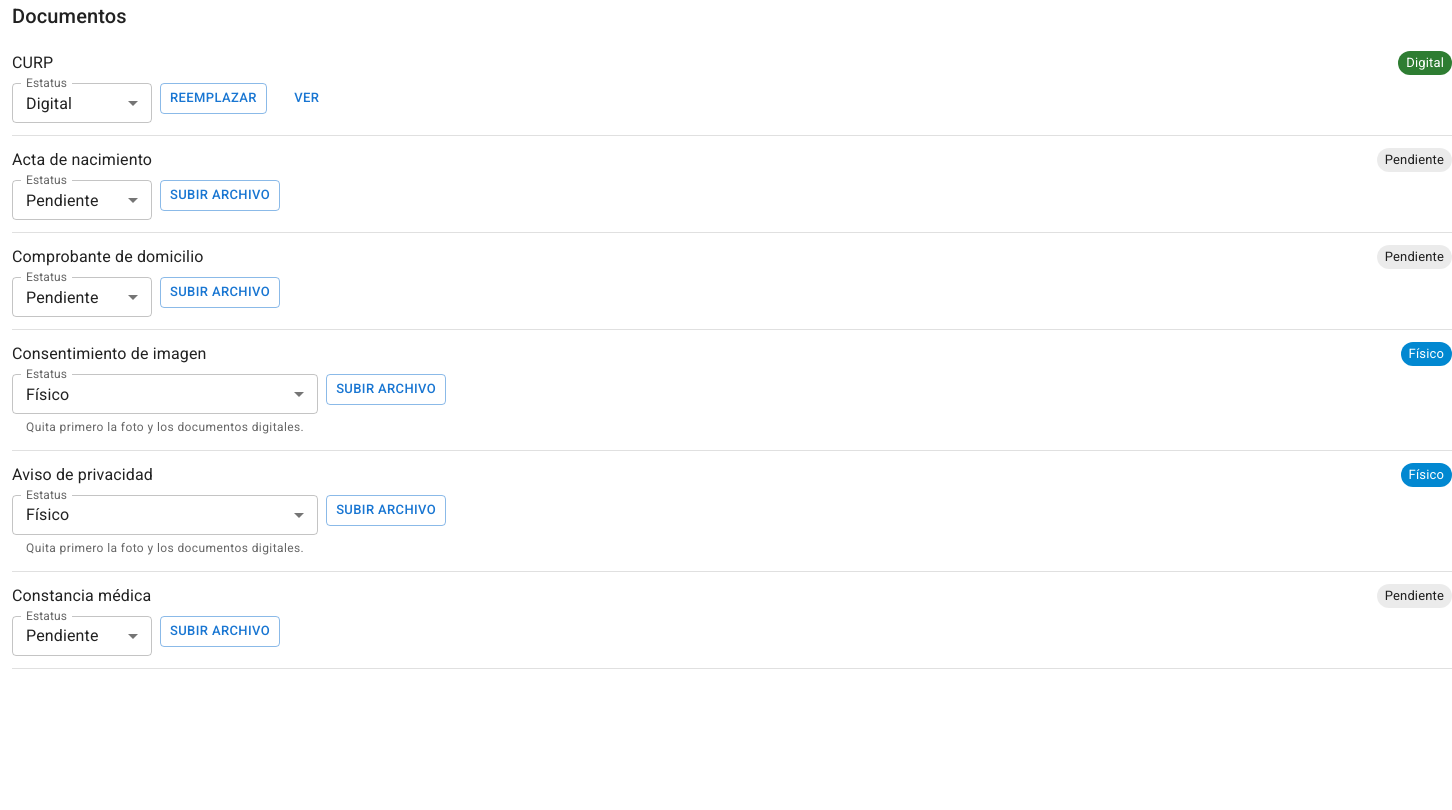
it: Ver closes the tab and shows an error when signing fails
Click the button "Ver".
click(307, 98)  # box x1=275 y1=83 x2=339 y2=114
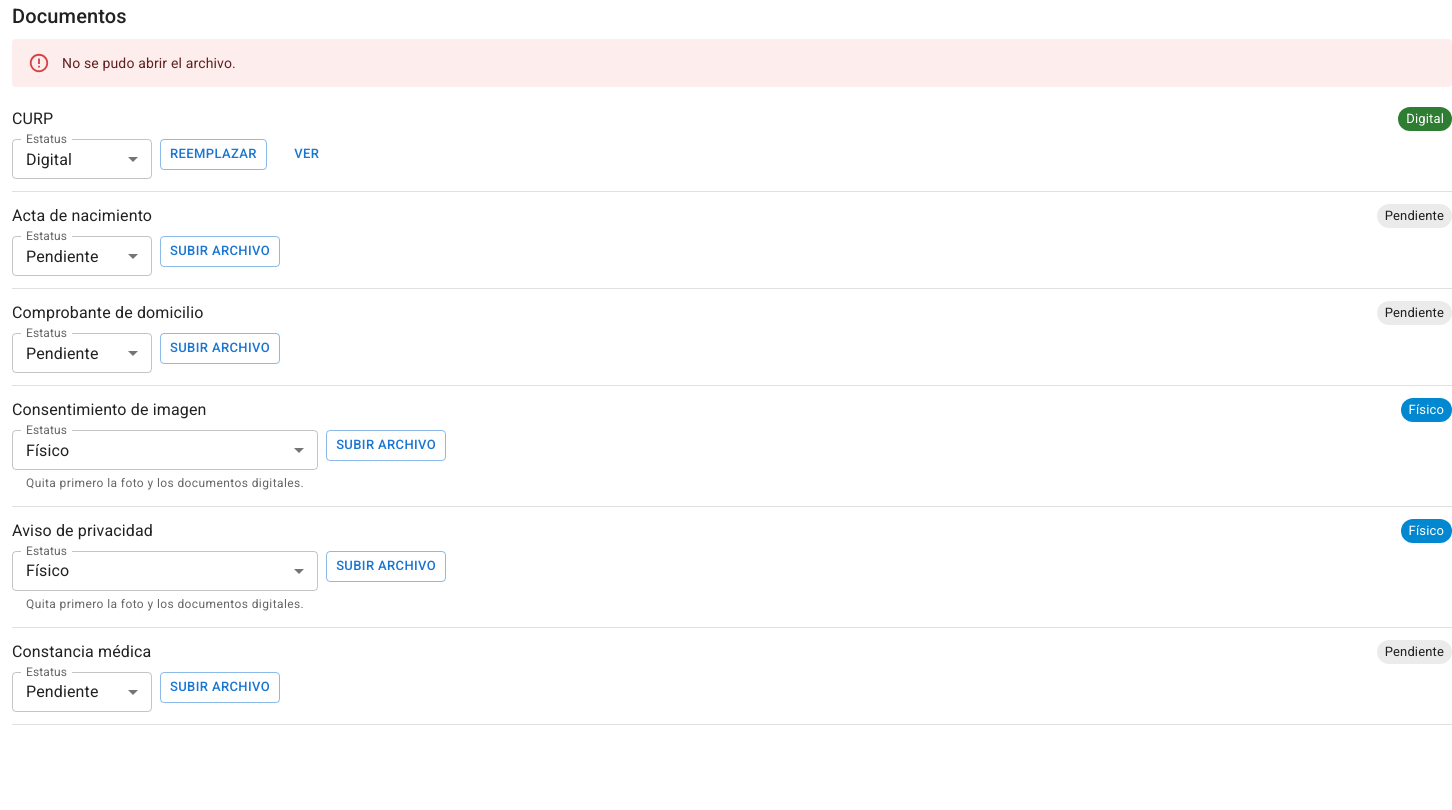
Now the message reads "No se pudo abrir el archivo.", box x1=62 y1=55 x2=236 y2=71
